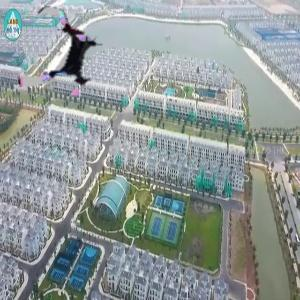drone: (13, 4, 109, 100)
